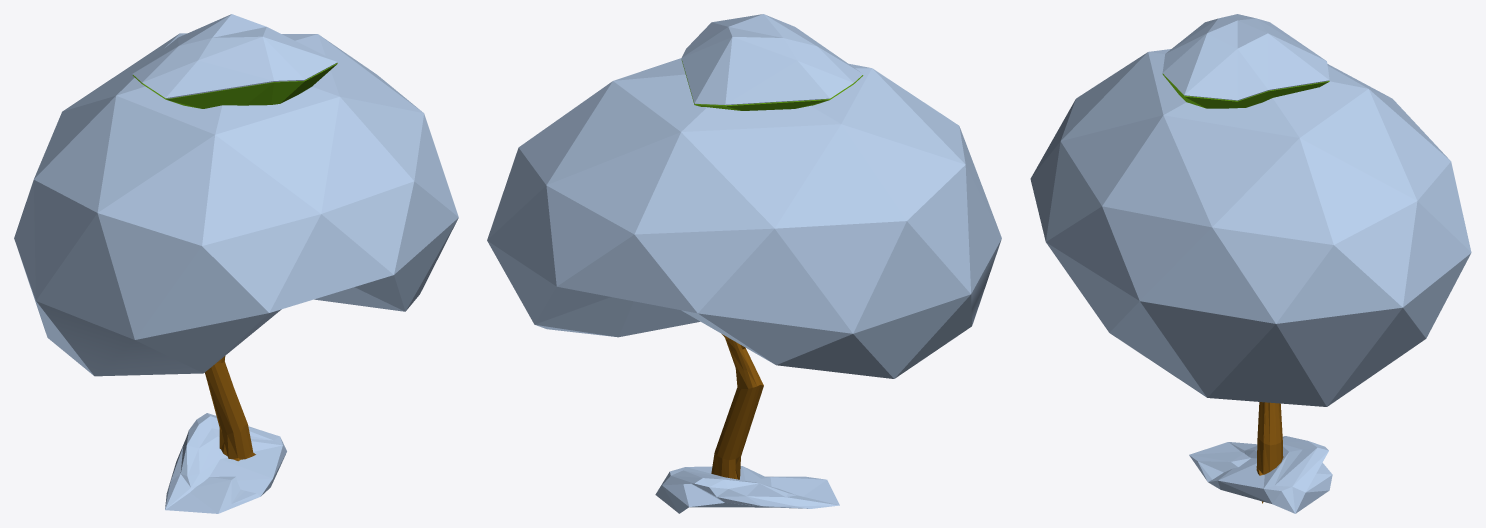
The model's file is derevofbx.fbx.
The picture shows the model from 3 angles, left to right: view 1: azimuth 30°, elevation 25°; view 2: azimuth 150°, elevation 25°; view 3: azimuth 270°, elevation 25°; orthographic projection. The views are drawn at different scales.
Visible parts, largest first — view 1: Object_95; view 2: Object_95; view 3: Object_95.
Part boxes in pixels (x1,y1,x2,y2): Object_95: (14,14,458,513); Object_95: (487,14,1001,513); Object_95: (1030,14,1471,513).
Size of the model in its own units: 2317 by 2394 by 2123.
